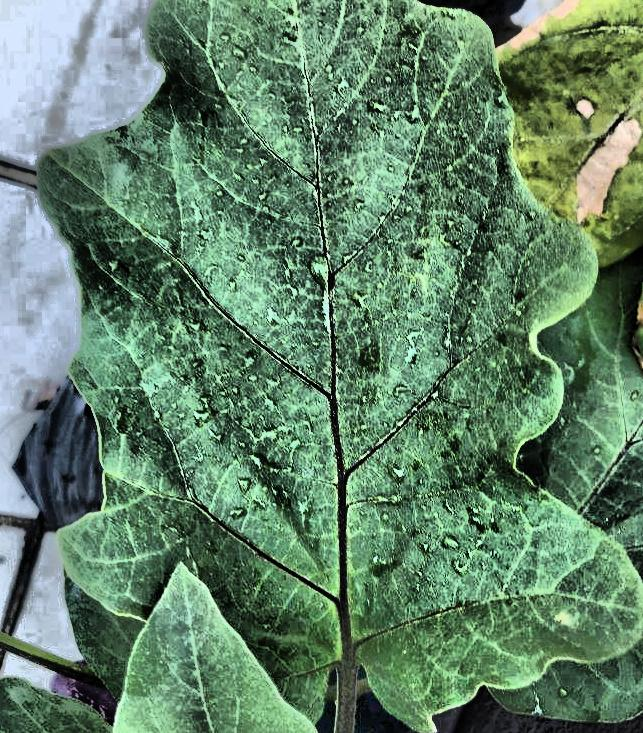HEALTHY: (29, 0, 643, 507)
